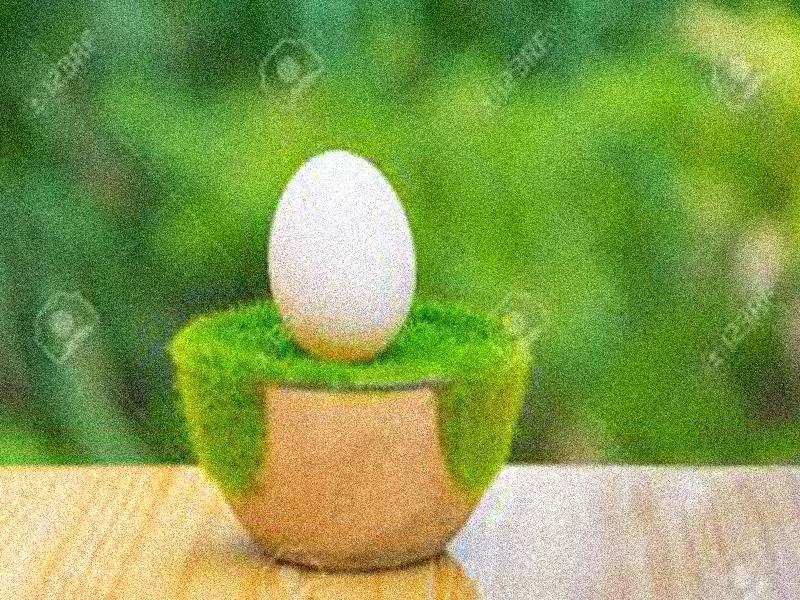Eggs: (271, 154, 419, 361)
